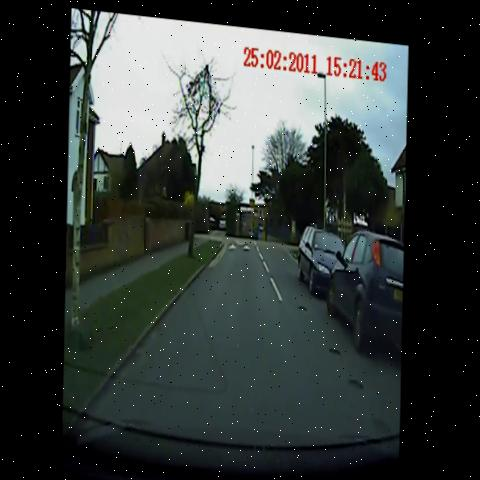pothole: (343, 358, 372, 388), (322, 331, 347, 356), (295, 286, 312, 310)
